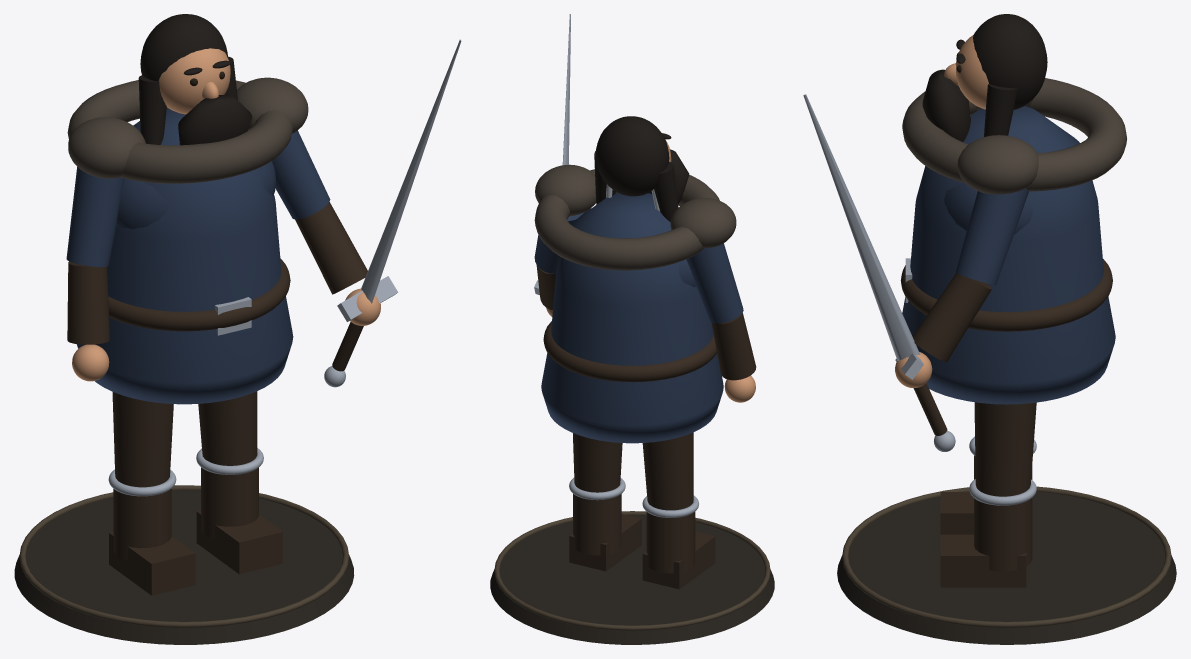
Rendered from thorin.glb.
3 views of the same model, side by side, from view 1: azimuth 30°, elevation 25°; view 2: azimuth 150°, elevation 25°; view 3: azimuth 270°, elevation 25° (orthographic). The views are drawn at different scales.
Visible parts, largest first — view 1: tunic, base, fur_collar, leg_l, arm_upper_l, base_ring, leg_r, belt, boot_toe_r, boot_toe_l, bracer_r, fur_l (+17 smaller); view 2: tunic, base, fur_collar, mane, leg_l, belt, base_ring, arm_upper_l, boot_l, boot_r, leg_r, fur_l (+12 smaller); view 3: tunic, base, fur_collar, leg_r, mane, base_ring, arm_upper_r, fur_r, blade, belt, bracer_r, boot_r (+9 smaller).
Part boxes in pixels (x1,y1,x2,y2): tunic: (76, 107, 293, 404); base: (14, 490, 354, 644); fur_collar: (67, 80, 293, 183); leg_l: (112, 392, 173, 487); arm_upper_l: (66, 166, 124, 267); base_ring: (19, 485, 349, 627); leg_r: (198, 391, 257, 465); belt: (108, 258, 290, 331); boot_toe_r: (196, 510, 282, 574); boot_toe_l: (109, 532, 195, 595); bracer_r: (295, 202, 367, 294); fur_l: (68, 117, 145, 178); tunic: (541, 193, 723, 443); base: (490, 515, 774, 644); fur_collar: (534, 169, 719, 270); mane: (595, 116, 669, 196); leg_l: (642, 432, 693, 510); belt: (543, 321, 716, 382); base_ring: (494, 511, 770, 630); arm_upper_l: (686, 243, 743, 323); boot_l: (646, 512, 695, 573); boot_r: (573, 494, 621, 555); leg_r: (573, 433, 622, 492); fur_l: (670, 198, 736, 248); tunic: (902, 106, 1115, 404); base: (837, 491, 1176, 644); fur_collar: (902, 78, 1126, 191); leg_r: (974, 402, 1036, 496); mane: (973, 14, 1047, 109); base_ring: (842, 486, 1171, 627); arm_upper_r: (955, 188, 1028, 284); fur_r: (957, 135, 1038, 194); blade: (803, 94, 920, 361); belt: (900, 259, 1112, 331); bracer_r: (912, 273, 991, 361); boot_r: (974, 498, 1032, 571).
Size of the model in its own units: 0.958 by 1.6 by 0.9606.
